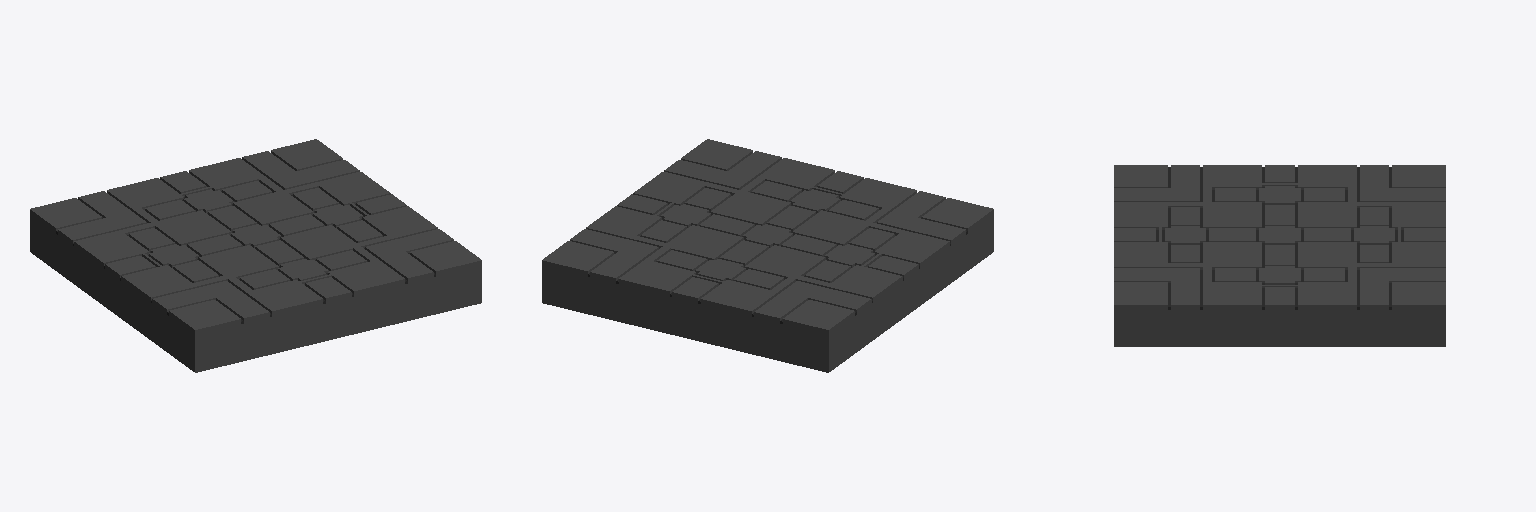
3 renders of one model, left to right at view 1: azimuth 30°, elevation 25°; view 2: azimuth 150°, elevation 25°; view 3: azimuth 270°, elevation 25°, orthographic.
Visible parts, largest first — view 1: Floor6; view 2: Floor6; view 3: Floor6.
Part boxes in pixels (bbox=[...]): Floor6: bbox=[30, 139, 481, 372]; Floor6: bbox=[542, 139, 993, 372]; Floor6: bbox=[1114, 165, 1445, 346].
Size of the model in its own units: 7.06 by 1.01 by 7.06.
1 materials, 1 textured.